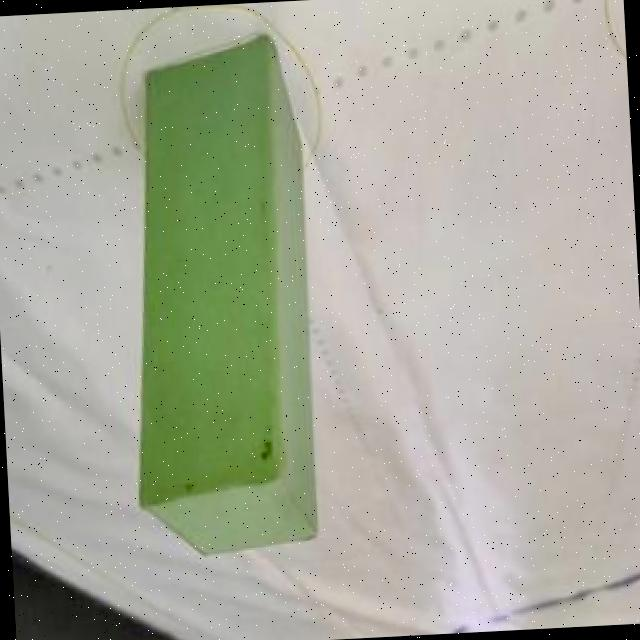greenbox: (113, 34, 324, 564)
